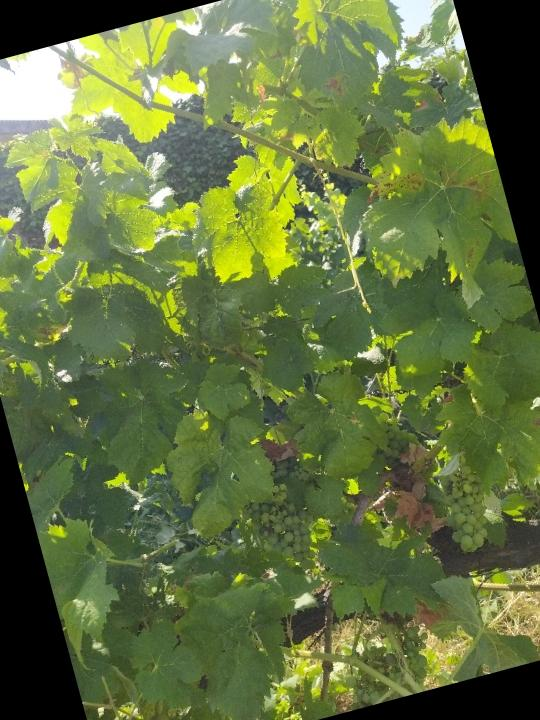grape: (235, 475, 330, 585), (429, 454, 503, 560)
